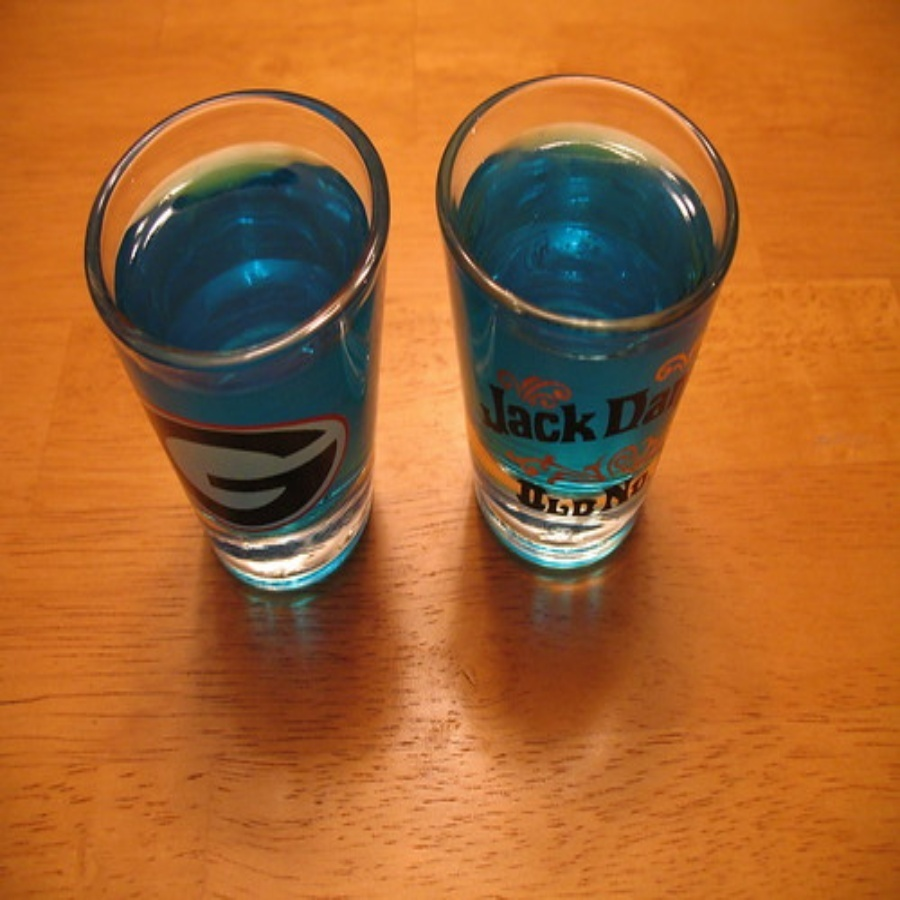whiskey: (83, 74, 387, 611), (446, 61, 724, 592)
